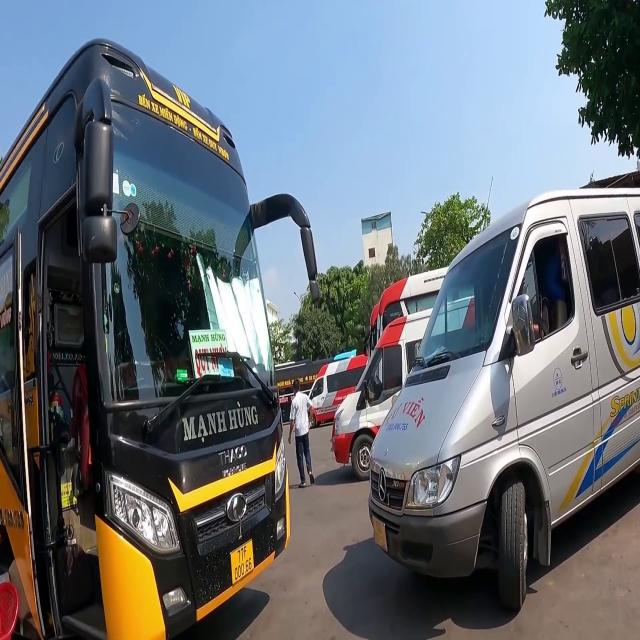bien_vang: (230, 536, 254, 582), (369, 510, 388, 552)
